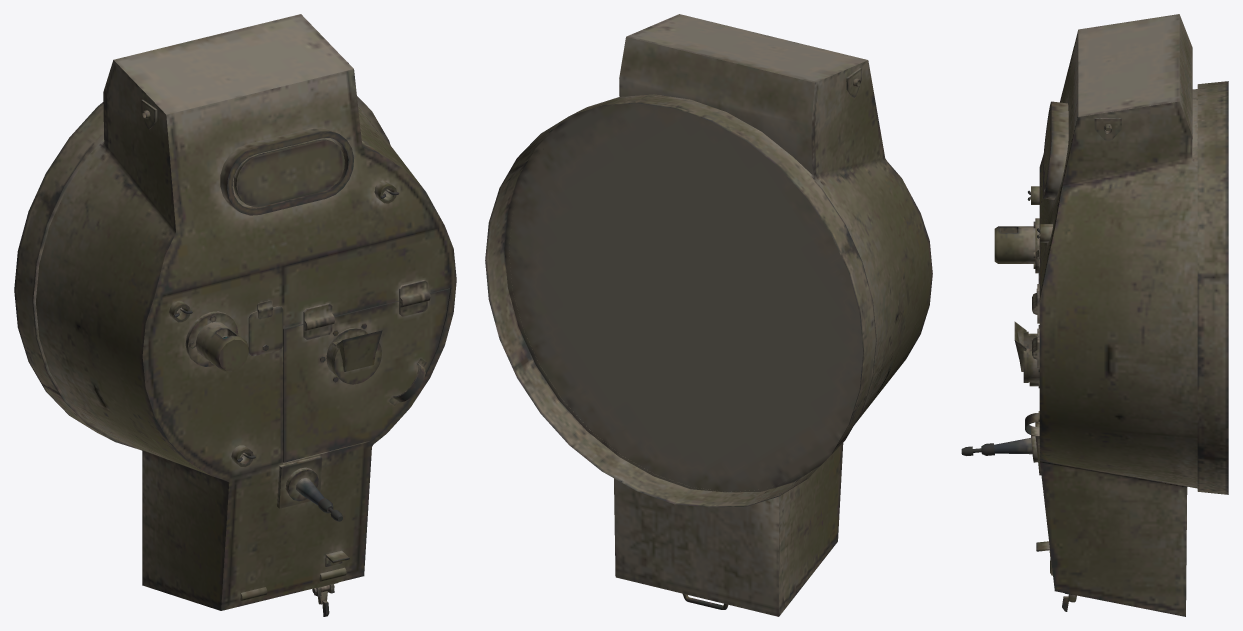
Rendered from Turret_01.glb.
3 views of the same model, side by side, from view 1: azimuth 30°, elevation 25°; view 2: azimuth 150°, elevation 25°; view 3: azimuth 270°, elevation 25° (orthographic). The views are drawn at different scales.
Visible parts, largest first — view 1: set_0_group_0; view 2: set_0_group_0; view 3: set_0_group_0.
Boxes of the visible parts, box(x1,y1,x2,y2) form: set_0_group_0: box(14, 14, 456, 616); set_0_group_0: box(485, 14, 932, 616); set_0_group_0: box(961, 14, 1228, 616).
Size of the model in its own units: 1.38 by 1.94 by 0.89.
1 material, 1 textured.
